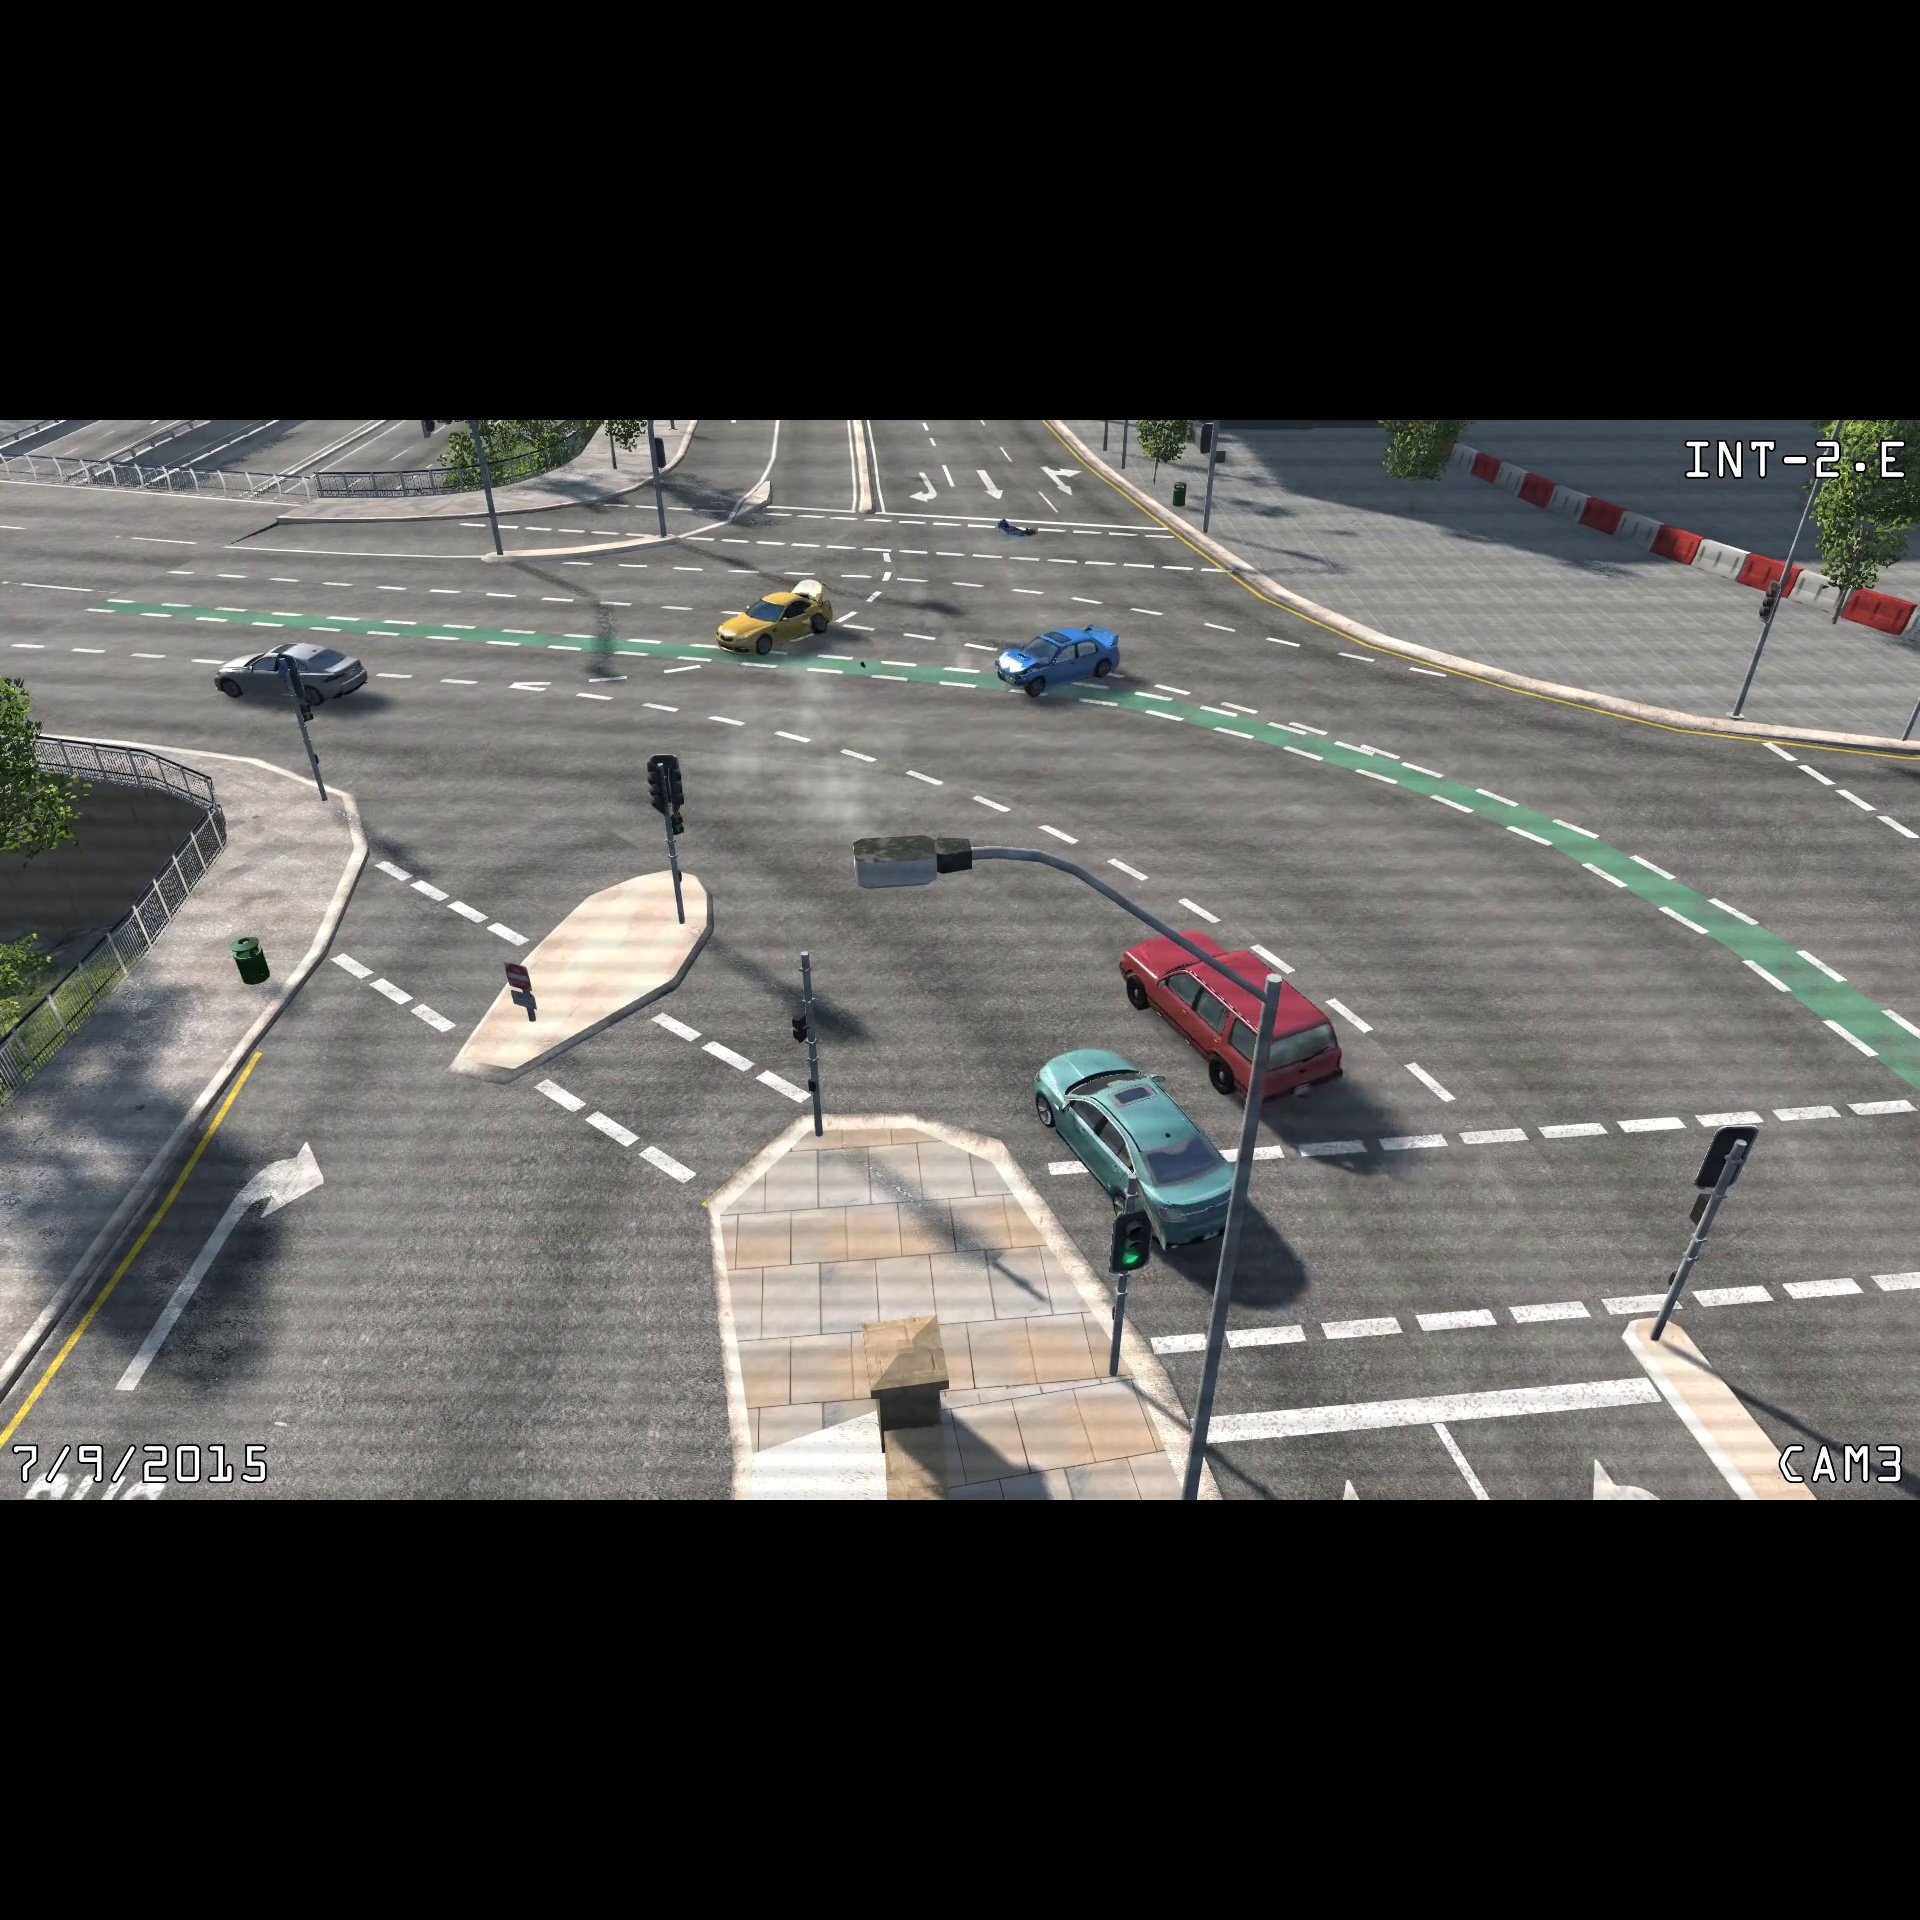vehicle: (1029, 1043, 1257, 1261), (1111, 923, 1356, 1109), (207, 636, 376, 710), (992, 617, 1134, 703), (714, 571, 839, 663)
